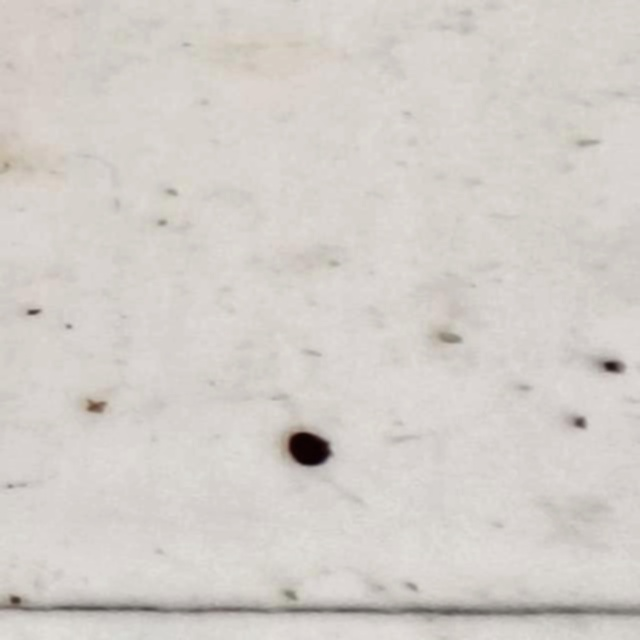varroa: (286, 433, 334, 470)
